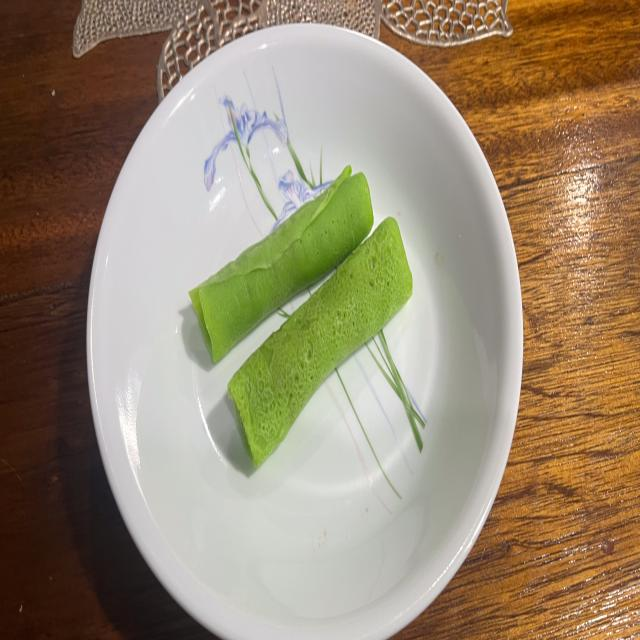Kuih-Ketayap: (229, 218, 412, 467), (190, 167, 374, 362)
